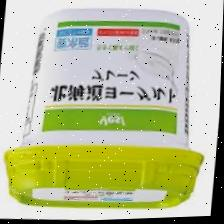plastic: (4, 7, 202, 211)
